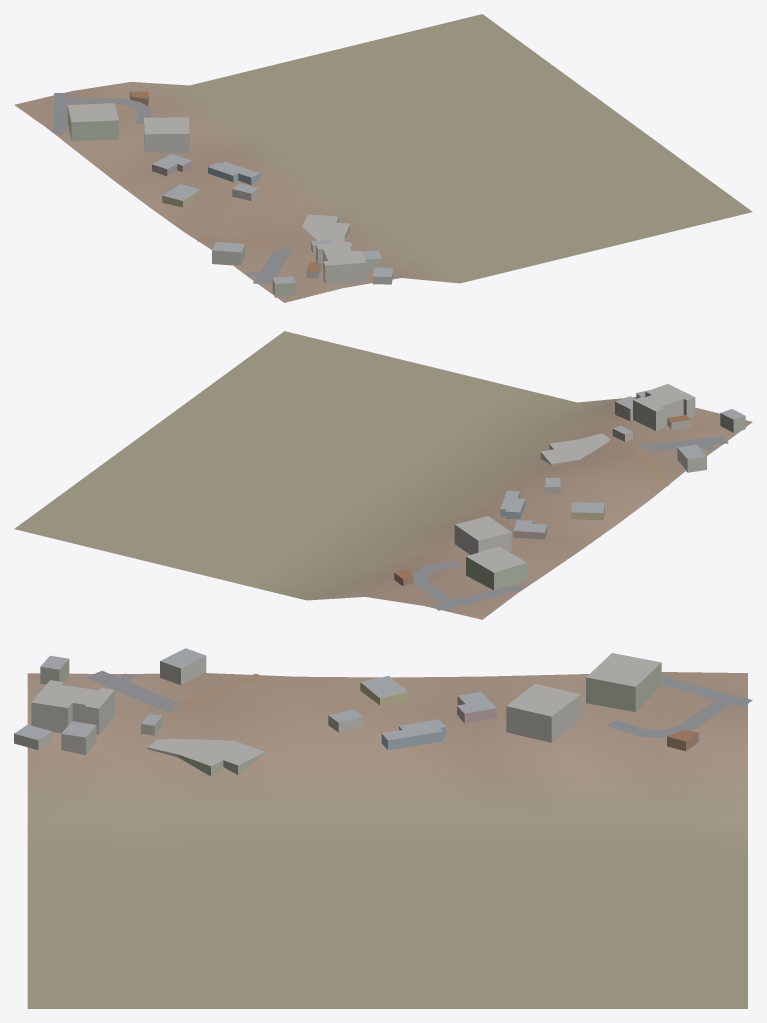
The picture shows the model from 3 angles, top to bottom: view 1: azimuth 30°, elevation 25°; view 2: azimuth 150°, elevation 25°; view 3: azimuth 270°, elevation 25°; orthographic projection. The views are drawn at different scales.
Visible parts, largest first — view 1: Lo; view 2: Lo; view 3: Lo.
Boxes of the visible parts, bbox=[...] form: Lo: bbox=[14, 14, 752, 302]; Lo: bbox=[14, 331, 752, 619]; Lo: bbox=[14, 648, 752, 1008].
Size of the model in its own units: 263 by 22.29 by 263.
